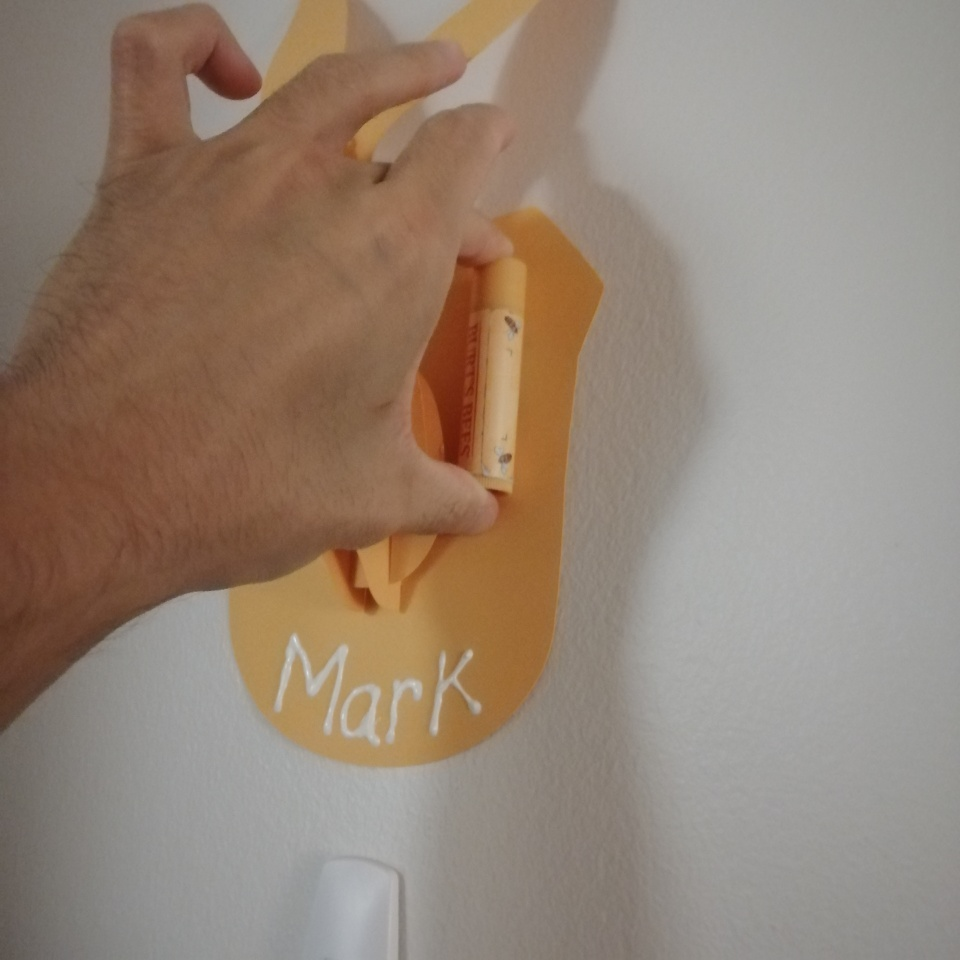chapstick: (457, 257, 528, 495)
